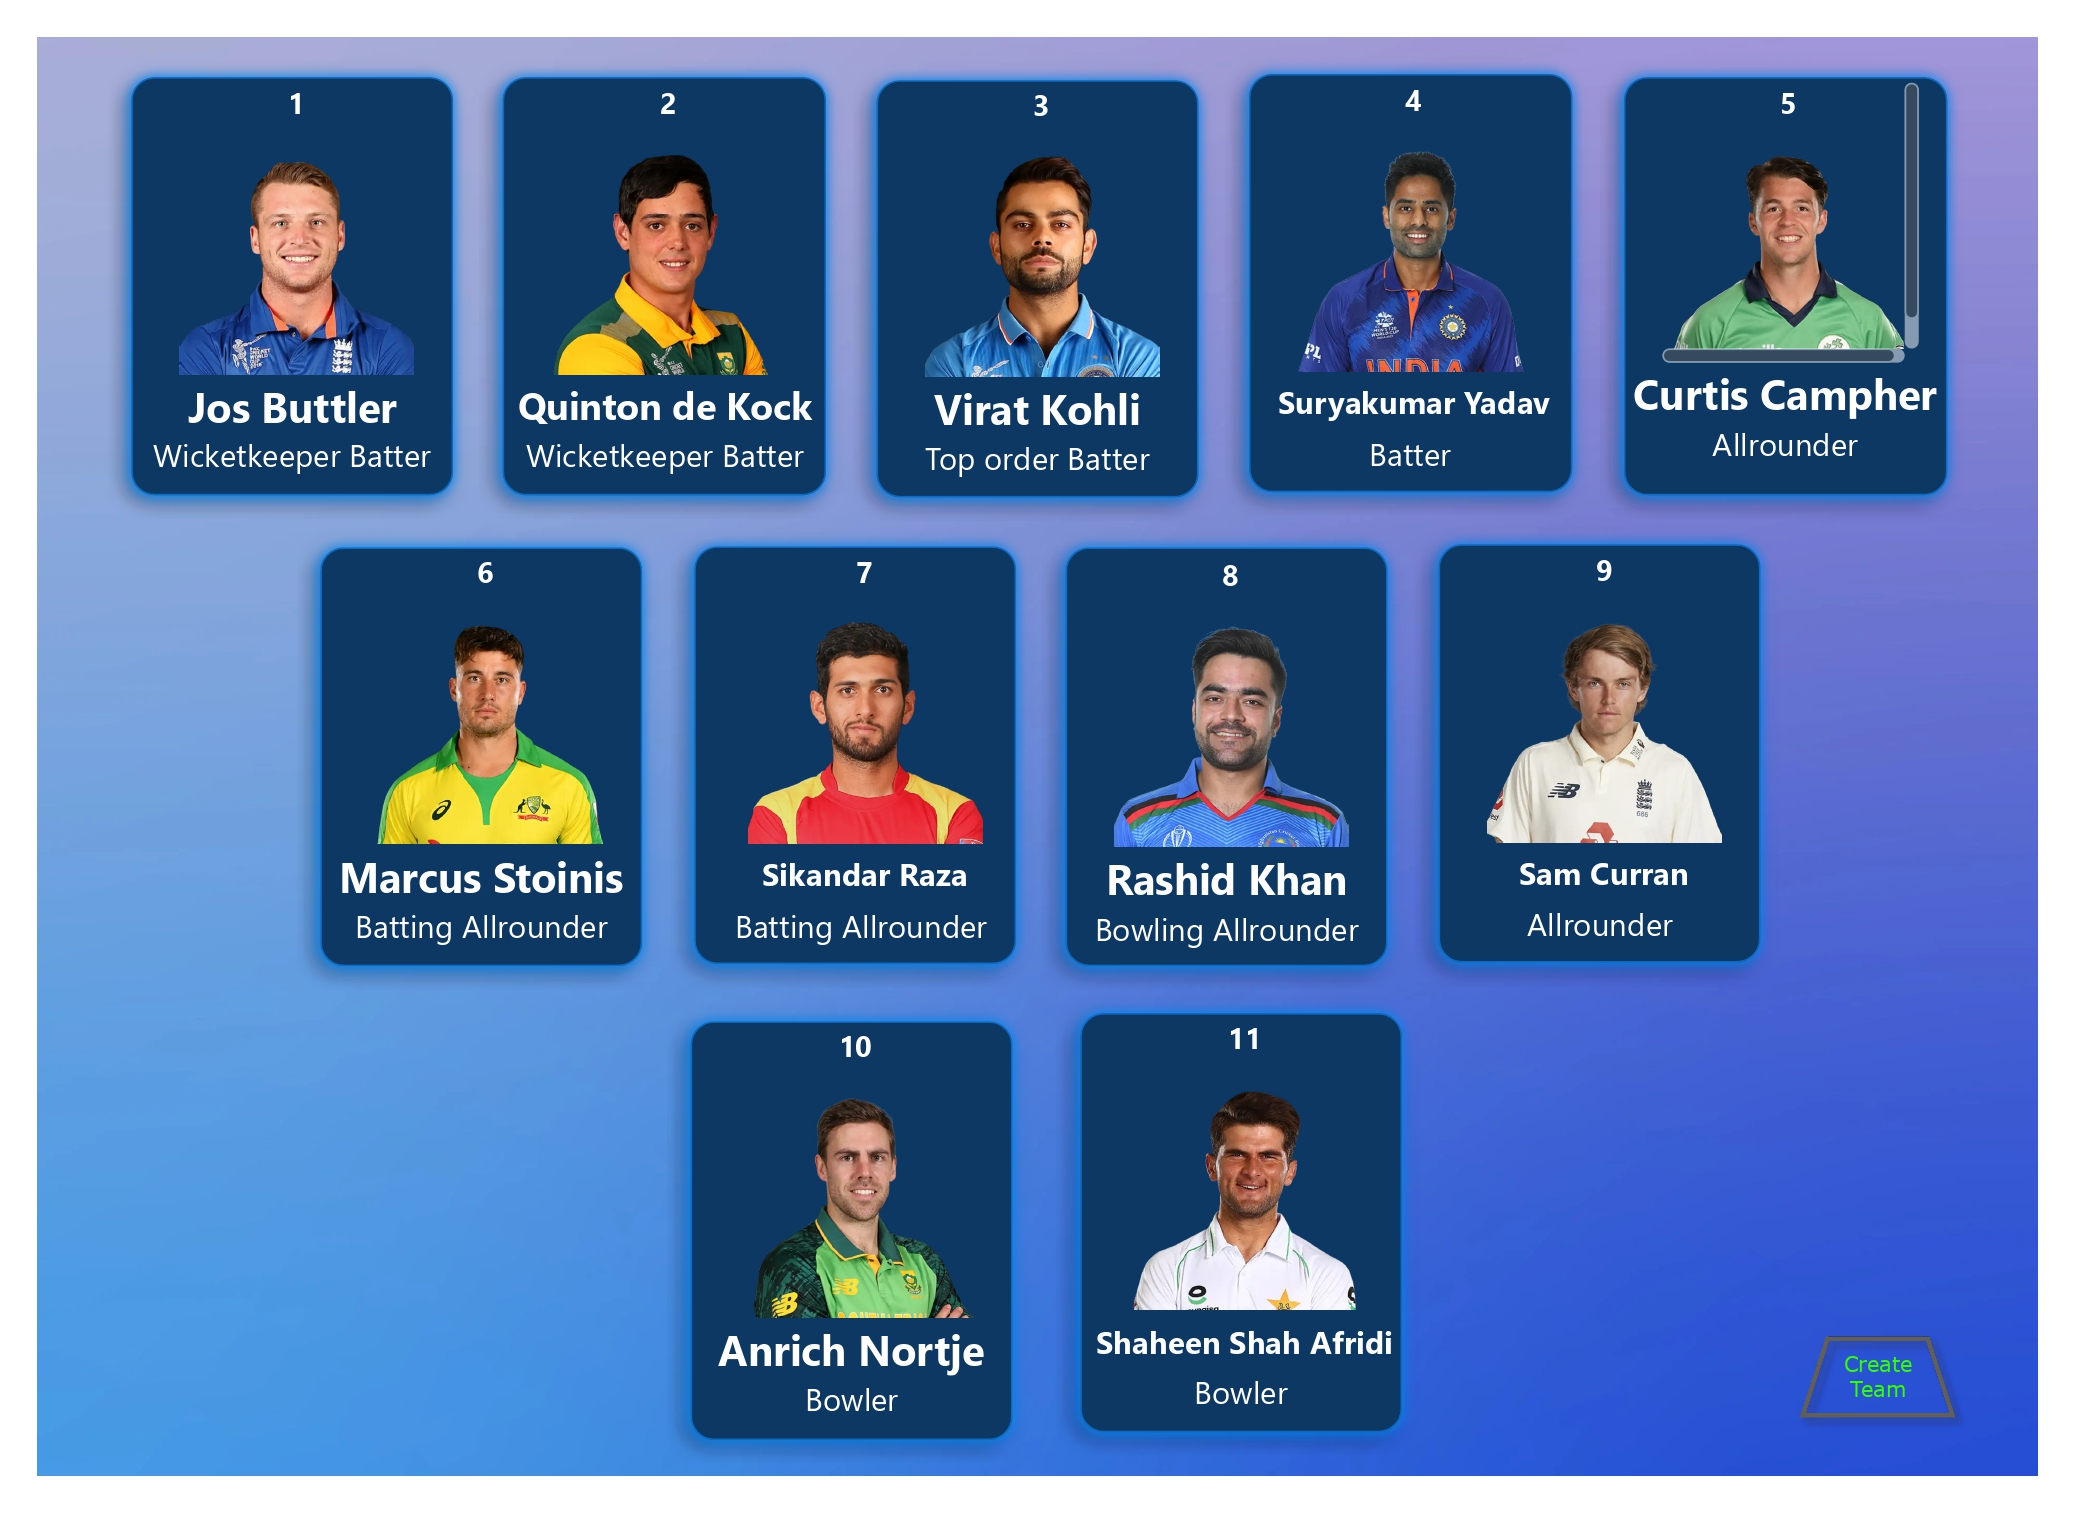

The page's visual inventory and layout, read from the dashboard file:
{"tool":"powerbi","page":{"name":"Best 11","canvas":[1280,920],"ordinal":9},"visuals":[{"type":"shape","box":[760.4,8.4,236.2,297.9],"z":0},{"type":"shape","box":[881.5,309.3,236.2,297.9],"z":1000},{"type":"shape","box":[1000.4,10,236.2,297.9],"z":2000},{"type":"tableEx","title":"IMG","fields":{"Values":["dim_players.image"]},"box":[1034.3,29.3,169.8,179.1],"z":3000},{"type":"shape","box":[643,311,236.2,297.9],"z":4000},{"type":"shape","box":[521.9,11.5,236.2,297.9],"z":5000},{"type":"card","title":"name","fields":{"Values":["Min(dim_players.name)"]},"box":[1000.4,209.1,236.2,40.1],"z":6000},{"type":"shape","box":[166,310.8,236.2,297.9],"z":7000},{"type":"shape","box":[283.4,10,236.2,297.9],"z":8000},{"type":"card","title":"role","fields":{"Values":["Min(dim_players.playingRole)"]},"box":[1000.4,241.6,236.2,40.1],"z":9000},{"type":"shape","box":[402.6,613.6,236.2,297.9],"z":10000},{"type":"shape","box":[44.9,10,236.2,297.9],"z":11000},{"type":"tableEx","title":"IMG","fields":{"Values":["dim_players.image"]},"box":[915.5,327.8,169.8,188.3],"z":12000},{"type":"tableEx","title":"IMG","fields":{"Values":["dim_players.image"]},"box":[794.4,27,169.8,188.3],"z":13000},{"type":"tableEx","title":"IMG","fields":{"Values":["dim_players.image"]},"box":[677,330.9,169.8,188.3],"z":14000},{"type":"tableEx","title":"IMG","fields":{"Values":["dim_players.image"]},"box":[555.9,30.1,169.8,188.3],"z":15000},{"type":"tableEx","title":"IMG","fields":{"Values":["dim_players.image"]},"box":[200,329.4,169.8,188.3],"z":16000},{"type":"tableEx","title":"IMG","fields":{"Values":["dim_players.image"]},"box":[317.4,28.5,169.8,188.3],"z":17000},{"type":"tableEx","title":"IMG","fields":{"Values":["dim_players.image"]},"box":[436.6,632.1,169.8,188.3],"z":18000},{"type":"tableEx","title":"IMG","fields":{"Values":["dim_players.image"]},"box":[78.8,28.5,169.8,188.3],"z":19000},{"type":"card","title":"name","fields":{"Values":["Min(dim_players.name)"]},"box":[881.5,516.2,236.2,40.1],"z":20000},{"type":"card","title":"name","fields":{"Values":["Min(dim_players.name)"]},"box":[760.4,215.3,236.2,40.1],"z":21000},{"type":"card","title":"name","fields":{"Values":["Min(dim_players.name)"]},"box":[643,519.3,236.2,40.1],"z":22000},{"type":"card","title":"name","fields":{"Values":["Min(dim_players.name)"]},"box":[521.9,218.4,236.2,40.1],"z":23000},{"type":"card","title":"name","fields":{"Values":["Min(dim_players.name)"]},"box":[166,517.7,236.2,40.1],"z":24000},{"type":"card","title":"name","fields":{"Values":["Min(dim_players.name)"]},"box":[283.4,216.9,236.2,40.1],"z":25000},{"type":"card","title":"name","fields":{"Values":["Min(dim_players.name)"]},"box":[402.6,820.5,236.2,40.1],"z":26000},{"type":"card","title":"name","fields":{"Values":["Min(dim_players.name)"]},"box":[44.9,216.9,236.2,40.1],"z":27000},{"type":"card","title":"role","fields":{"Values":["Min(dim_players.playingRole)"]},"box":[881.5,548.6,236.2,40.1],"z":28000},{"type":"card","title":"role","fields":{"Values":["Min(dim_players.playingRole)"]},"box":[760.4,247.7,236.2,40.1],"z":29000},{"type":"card","title":"role","fields":{"Values":["Min(dim_players.playingRole)"]},"box":[643,551.7,236.2,40.1],"z":30000},{"type":"card","title":"role","fields":{"Values":["Min(dim_players.playingRole)"]},"box":[521.9,250.8,236.2,40.1],"z":31000},{"type":"card","title":"role","fields":{"Values":["Min(dim_players.playingRole)"]},"box":[166,550.1,236.2,40.1],"z":32000},{"type":"card","title":"role","fields":{"Values":["Min(dim_players.playingRole)"]},"box":[283.4,249.3,236.2,40.1],"z":33000},{"type":"card","title":"role","fields":{"Values":["Min(dim_players.playingRole)"]},"box":[402.6,852.9,236.2,40.1],"z":34000},{"type":"card","title":"role","fields":{"Values":["Min(dim_players.playingRole)"]},"box":[44.9,249.3,236.2,40.1],"z":35000},{"type":"shape","box":[404.5,310.5,236.2,297.9],"z":36000},{"type":"tableEx","title":"IMG","fields":{"Values":["dim_players.image"]},"box":[443,329,169.8,188.3],"z":37000},{"type":"card","title":"name","fields":{"Values":["Min(dim_players.name)"]},"box":[409,517.3,236.2,40.1],"z":38000},{"type":"card","title":"role","fields":{"Values":["Min(dim_players.playingRole)"]},"box":[409,549.8,236.2,40.1],"z":39000},{"type":"shape","box":[651.6,608.7,236.2,297.9],"z":40000},{"type":"tableEx","title":"IMG","fields":{"Values":["dim_players.image"]},"box":[685.6,627.2,169.8,188.3],"z":41000},{"type":"card","title":"name","fields":{"Values":["Min(dim_players.name)"]},"box":[651.6,815.5,236.2,40.1],"z":42000},{"type":"card","title":"role","fields":{"Values":["Min(dim_players.playingRole)"]},"box":[651.6,847.9,236.2,40.1],"z":43000},{"type":"actionButton","box":[1119.5,821.5,117.8,70.9],"z":44000}]}

Visuals, with their boxes on the page's 1280x920 design canvas (x1, y1, x2, y2). These are canvas units, not pixel positions in the 2075x1513 screenshot, which may show the page scaled, cropped or inside an application window:
shape: [760, 8, 997, 306]
shape: [882, 309, 1118, 607]
shape: [1000, 10, 1237, 308]
"IMG" tableEx: [1034, 29, 1204, 208]
shape: [643, 311, 879, 609]
shape: [522, 12, 758, 309]
"name" card: [1000, 209, 1237, 249]
shape: [166, 311, 402, 609]
shape: [283, 10, 520, 308]
"role" card: [1000, 242, 1237, 282]
shape: [403, 614, 639, 912]
shape: [45, 10, 281, 308]
"IMG" tableEx: [916, 328, 1085, 516]
"IMG" tableEx: [794, 27, 964, 215]
"IMG" tableEx: [677, 331, 847, 519]
"IMG" tableEx: [556, 30, 726, 218]
"IMG" tableEx: [200, 329, 370, 518]
"IMG" tableEx: [317, 28, 487, 217]
"IMG" tableEx: [437, 632, 606, 820]
"IMG" tableEx: [79, 28, 249, 217]
"name" card: [882, 516, 1118, 556]
"name" card: [760, 215, 997, 255]
"name" card: [643, 519, 879, 559]
"name" card: [522, 218, 758, 258]
"name" card: [166, 518, 402, 558]
"name" card: [283, 217, 520, 257]
"name" card: [403, 820, 639, 861]
"name" card: [45, 217, 281, 257]
"role" card: [882, 549, 1118, 589]
"role" card: [760, 248, 997, 288]
"role" card: [643, 552, 879, 592]
"role" card: [522, 251, 758, 291]
"role" card: [166, 550, 402, 590]
"role" card: [283, 249, 520, 289]
"role" card: [403, 853, 639, 893]
"role" card: [45, 249, 281, 289]
shape: [404, 310, 641, 608]
"IMG" tableEx: [443, 329, 613, 517]
"name" card: [409, 517, 645, 557]
"role" card: [409, 550, 645, 590]
shape: [652, 609, 888, 907]
"IMG" tableEx: [686, 627, 855, 816]
"name" card: [652, 816, 888, 856]
"role" card: [652, 848, 888, 888]
actionButton: [1120, 822, 1237, 892]
